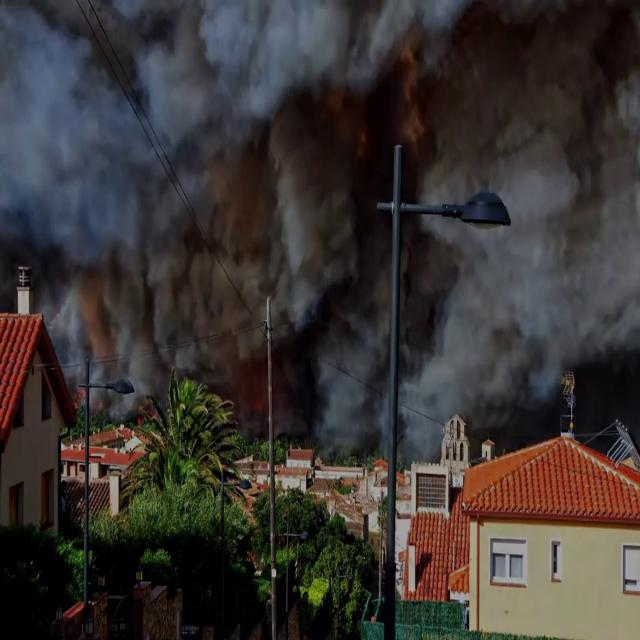Smoke: (0, 1, 639, 441)
